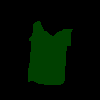t-shirt: (28, 20, 73, 85)
